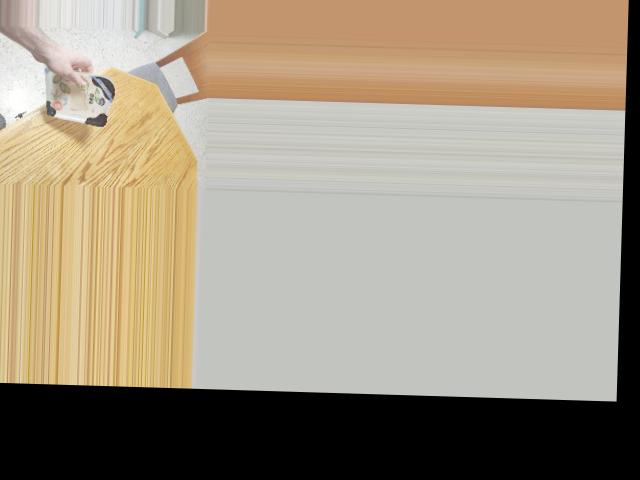cheese: (28, 69, 118, 125)
